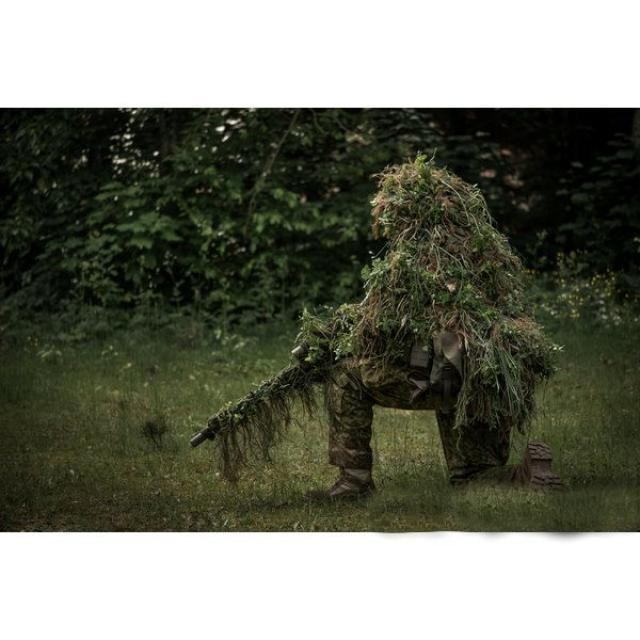Human: (187, 153, 560, 504)
